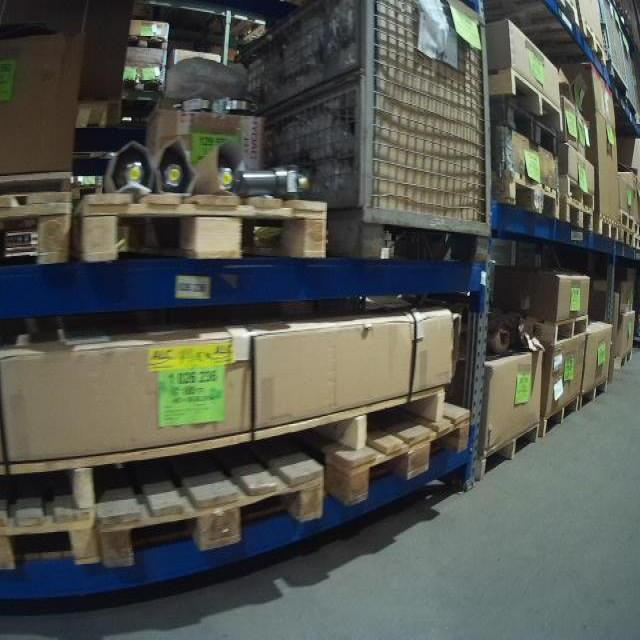pallet: (101, 424, 323, 574), (74, 185, 328, 263), (324, 395, 470, 511), (0, 489, 99, 587), (0, 189, 70, 267), (487, 69, 565, 134), (490, 103, 560, 158), (478, 422, 541, 480), (492, 171, 562, 219), (540, 394, 581, 438), (540, 313, 591, 346), (557, 173, 597, 211), (558, 197, 595, 233), (580, 20, 606, 67), (580, 379, 608, 408), (595, 213, 620, 241), (129, 38, 169, 53), (613, 349, 632, 370), (619, 209, 635, 231), (619, 225, 634, 248), (633, 224, 640, 237), (634, 235, 640, 250)
stillage: (237, 0, 490, 262), (590, 0, 628, 93), (623, 18, 638, 121)
